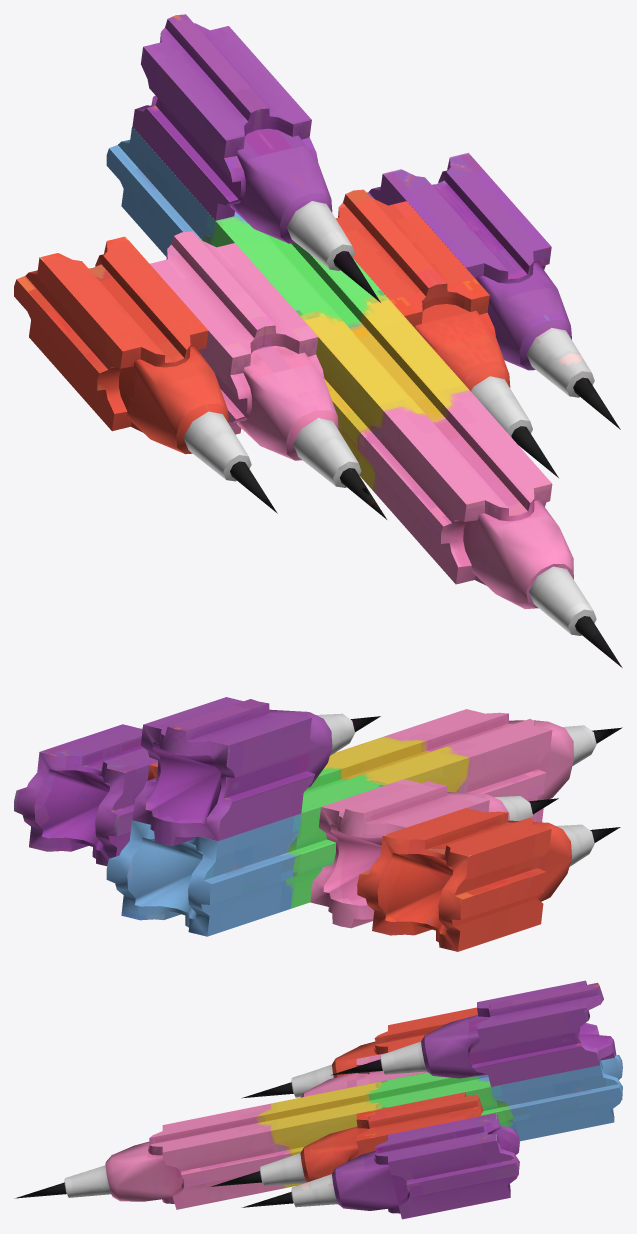
Rendered from ref_gtplanepen.glb.
The picture shows the model from 3 angles, top to bottom: view 1: azimuth 30°, elevation 25°; view 2: azimuth 150°, elevation 25°; view 3: azimuth 270°, elevation 25°; orthographic projection. The views are drawn at different scales.
Parts seen in each view (by area): view 1: ref_gtplanepen; view 2: ref_gtplanepen; view 3: ref_gtplanepen.
Boxes of the visible parts, x1=… form: ref_gtplanepen: x1=14, y1=14, x2=622, y2=667; ref_gtplanepen: x1=14, y1=697, x2=622, y2=951; ref_gtplanepen: x1=14, y1=980, x2=622, y2=1219.
Size of the model in its own units: 0.554 by 0.3869 by 1.
Materials: 1 (1 with a texture image).
